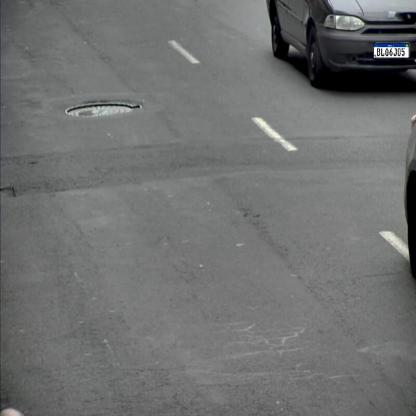PlacaM: (374, 43, 410, 58)
